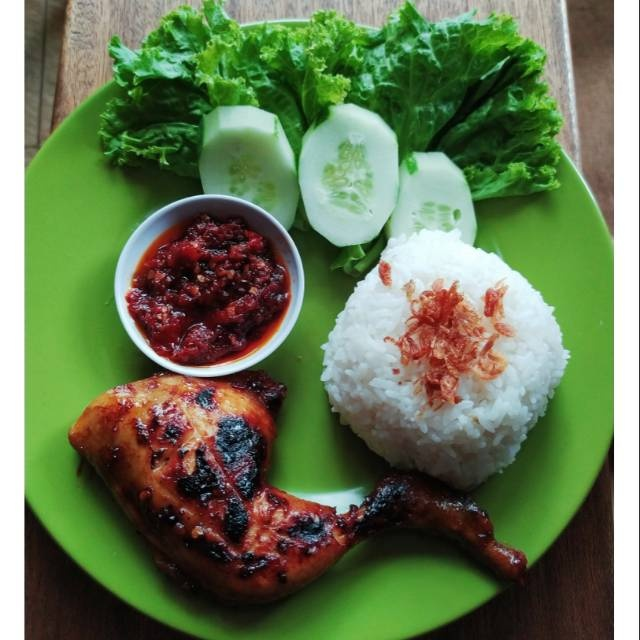ayam_goreng: (44, 376, 505, 611)
